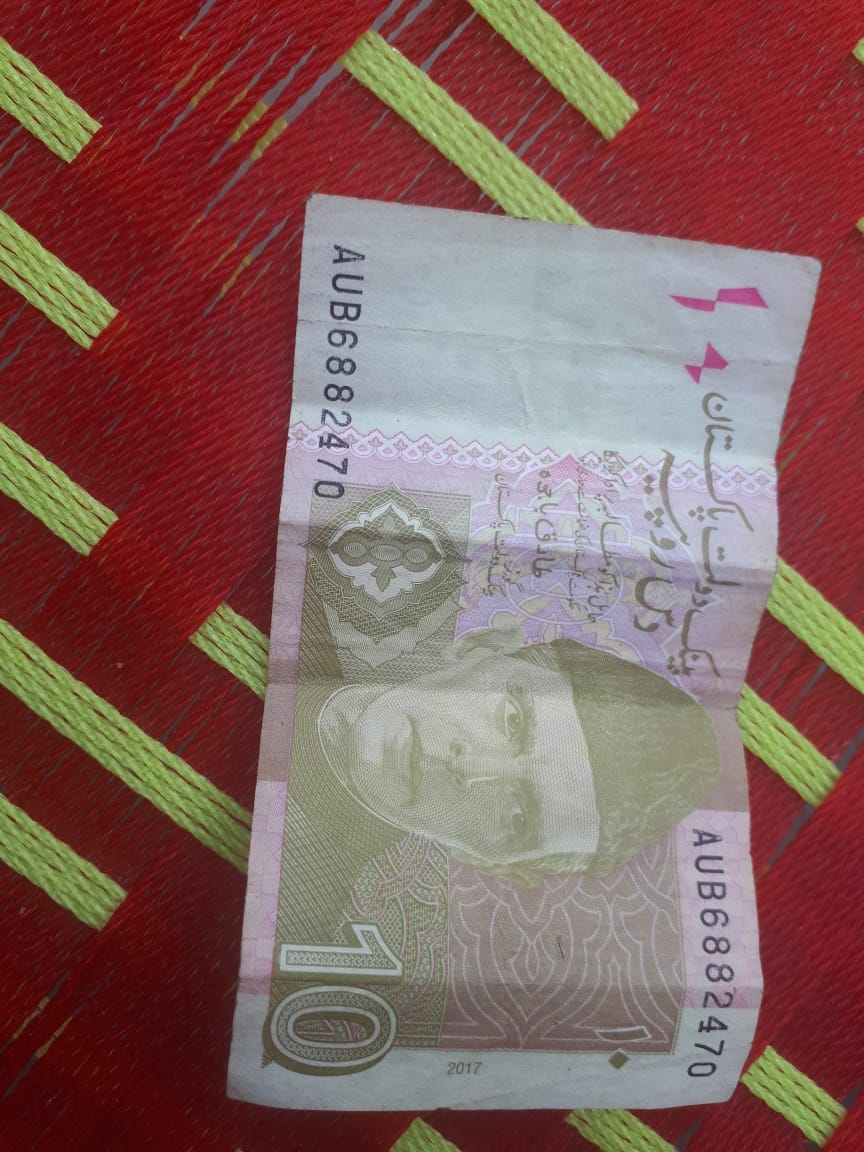10 rupee: (226, 159, 834, 1108)
